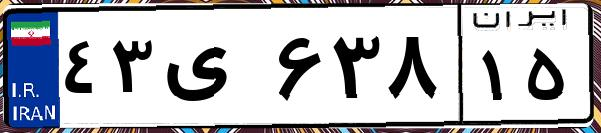1: (475, 38, 525, 113)
3: (330, 28, 385, 110), (110, 28, 158, 98)
4: (57, 26, 110, 100)
5: (525, 38, 570, 115)
6: (270, 28, 330, 110)
8: (385, 28, 445, 110)
ی: (158, 20, 270, 120)
